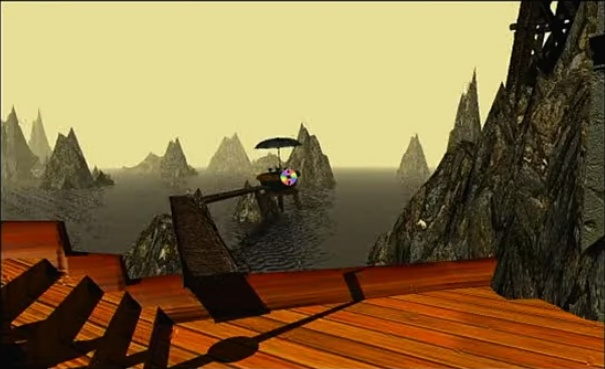Waiting: (277, 166, 301, 187)
